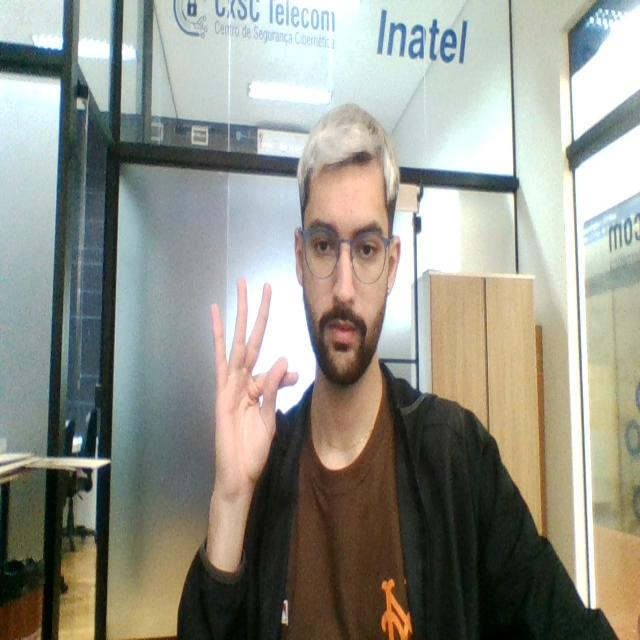T: (204, 276, 301, 496)
